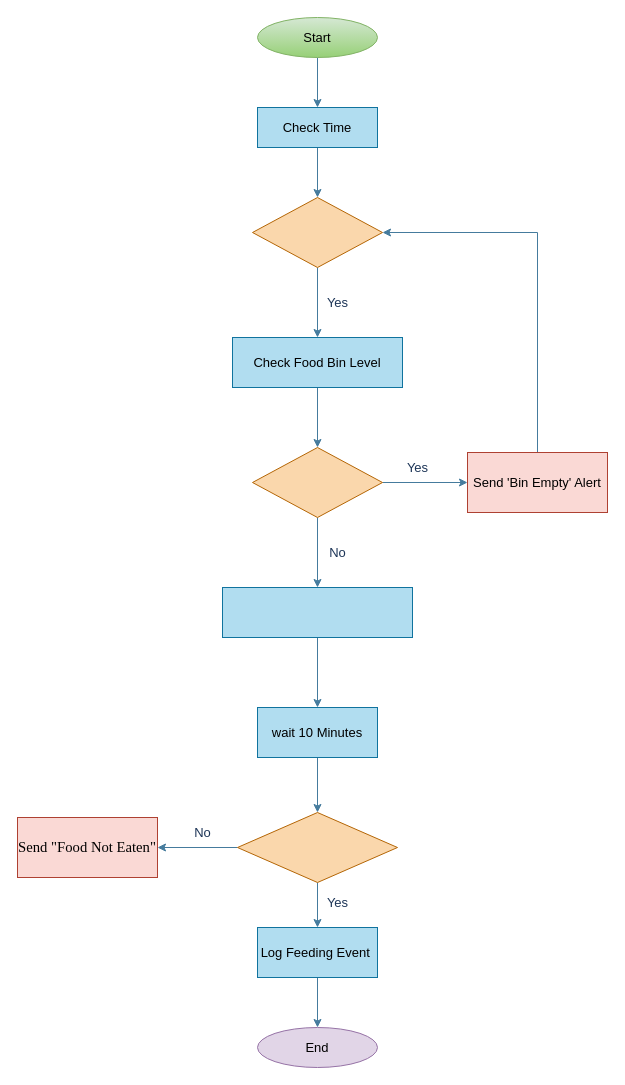
Some shapes in this 625 by 1085 pixel diagram are drawn without their labels. Here are the shapes that lost their labels. From the top down, the centre of each, then its label:
the point at 317,232: Time to Feed?
the point at 317,482: Bin Low?
the point at 317,612: Rotate Motor to Dispense Food
the point at 317,847: Weight change ≥ 50g?
